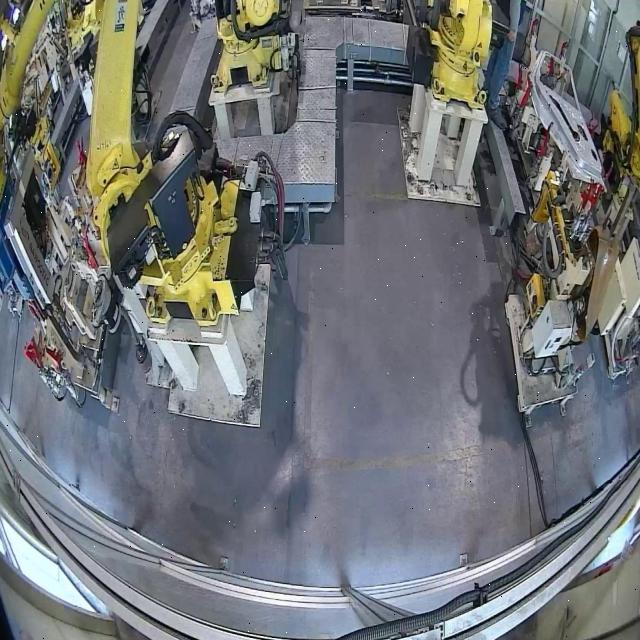Person: (482, 0, 552, 131)
